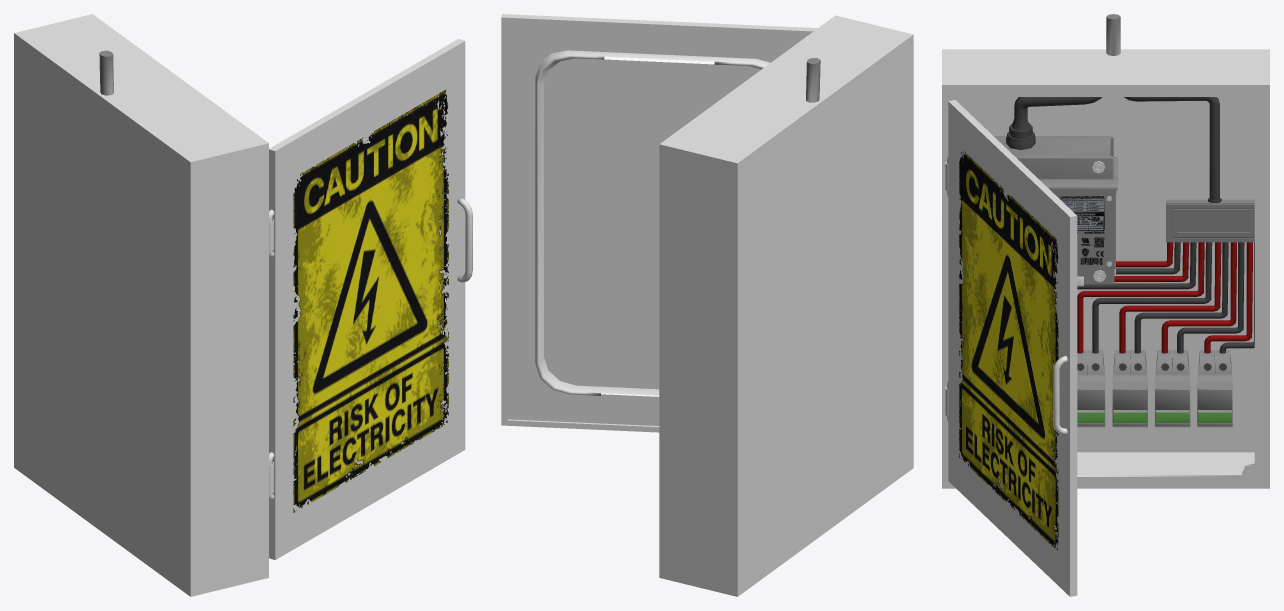
3 views of the same model, side by side, from view 1: azimuth 30°, elevation 25°; view 2: azimuth 150°, elevation 25°; view 3: azimuth 270°, elevation 25° (orthographic). The views are drawn at different scales.
Parts seen in each view (by area): view 1: Electrical Box, Electrical Door; view 2: Electrical Box, Electrical Door; view 3: Electrical Box, Electrical Door, Akumulator.
Part boxes in pixels (x1,y1,x2,y2): Electrical Box: [14, 14, 273, 596]; Electrical Door: [269, 39, 472, 559]; Electrical Box: [659, 15, 913, 596]; Electrical Door: [501, 14, 817, 432]; Electrical Box: [942, 14, 1269, 488]; Electrical Door: [947, 100, 1077, 596]; Akumulator: [994, 136, 1117, 284].
Size of the model in its own units: 0.3874 by 0.5104 by 0.3447.
Materials: 1 (1 with a texture image).
